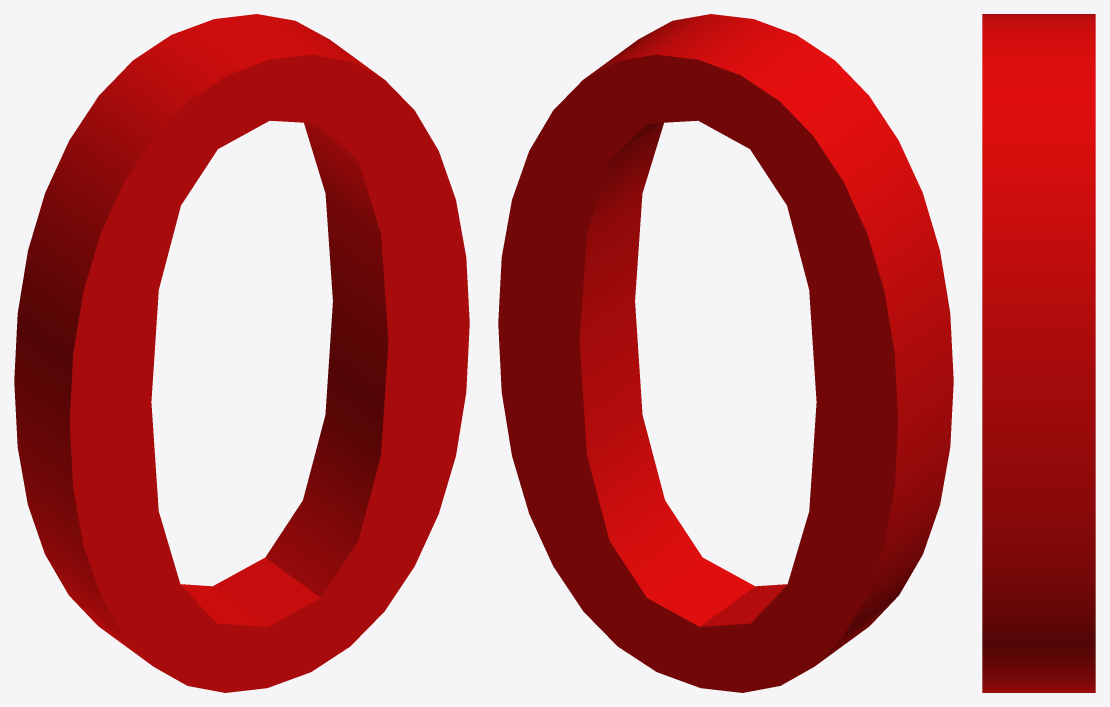
The model's file is sıfır.fbx.
The picture shows the model from 3 angles, left to right: view 1: azimuth 30°, elevation 25°; view 2: azimuth 150°, elevation 25°; view 3: azimuth 270°, elevation 25°; orthographic projection. The views are drawn at different scales.
Parts seen in each view (by area): view 1: typeMesh1; view 2: typeMesh1; view 3: typeMesh1.
Boxes of the visible parts, <box> form: typeMesh1: <box>14,14,469,692</box>; typeMesh1: <box>498,14,953,692</box>; typeMesh1: <box>982,14,1095,692</box>.
Size of the model in its own units: 6.33 by 9.49 by 1.52.
